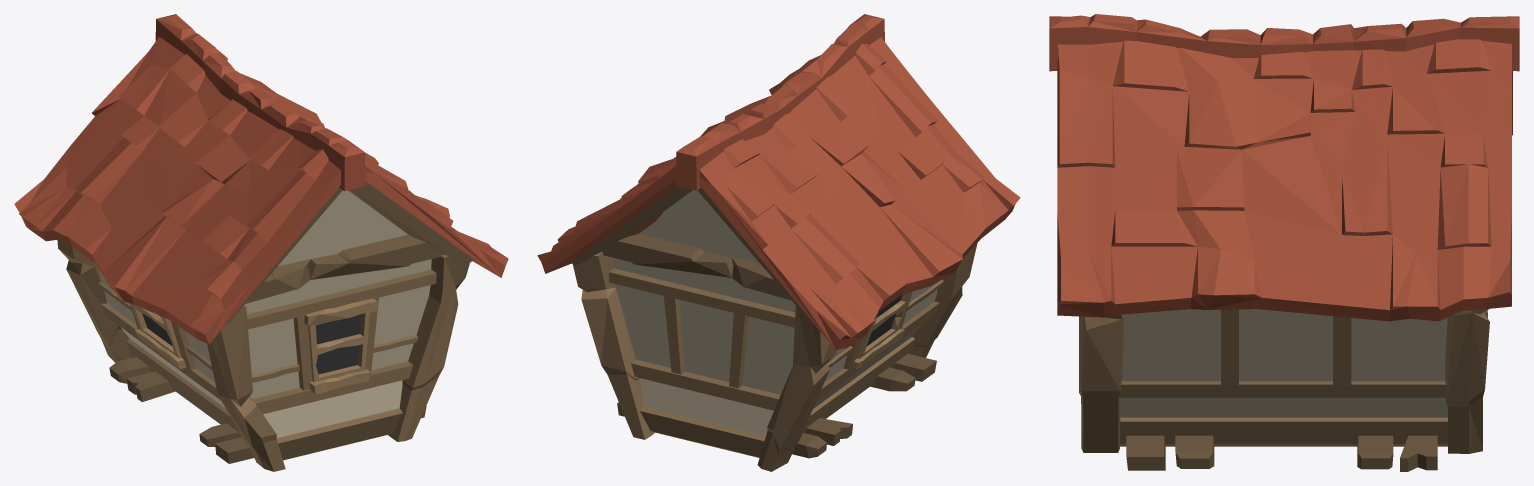
Rendered from SM_Bld_House_TopRoomSmall_03.gltf.
3 renders of one model, left to right at view 1: azimuth 30°, elevation 25°; view 2: azimuth 150°, elevation 25°; view 3: azimuth 270°, elevation 25°, orthographic. The views are drawn at different scales.
Visible parts, largest first — view 1: SM_Bld_House_TopRoomSmall_03; view 2: SM_Bld_House_TopRoomSmall_03; view 3: SM_Bld_House_TopRoomSmall_03.
Part boxes in pixels (<box>): SM_Bld_House_TopRoomSmall_03: <box>14,14,508,471</box>; SM_Bld_House_TopRoomSmall_03: <box>537,14,1020,471</box>; SM_Bld_House_TopRoomSmall_03: <box>1049,14,1519,471</box>.
Bounding box in the file's own units: 4.68 × 4.29 × 4.67.
Materials: 1 (1 with a texture image).
